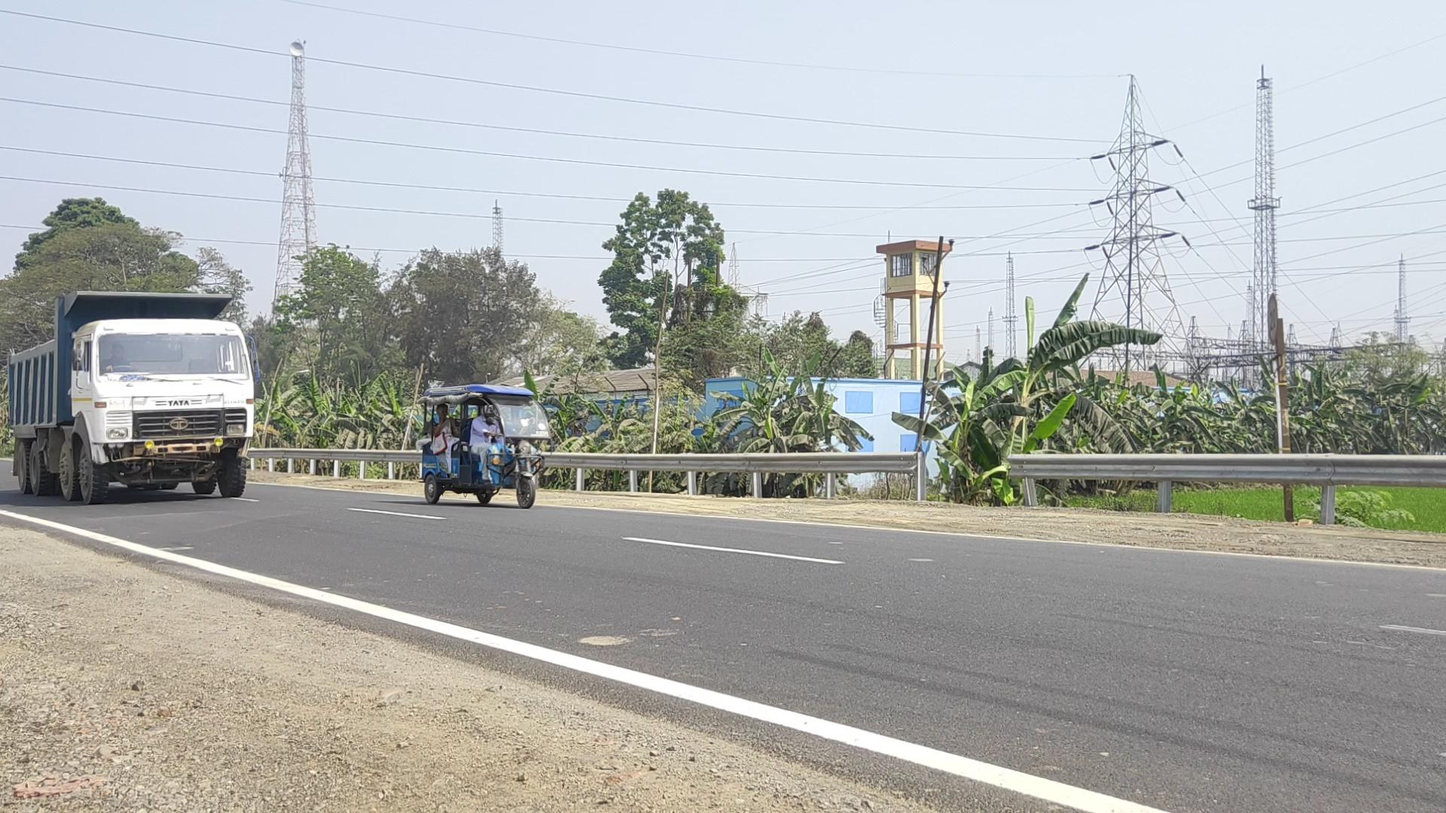Auto: (419, 383, 553, 509)
truck: (7, 290, 260, 506)
